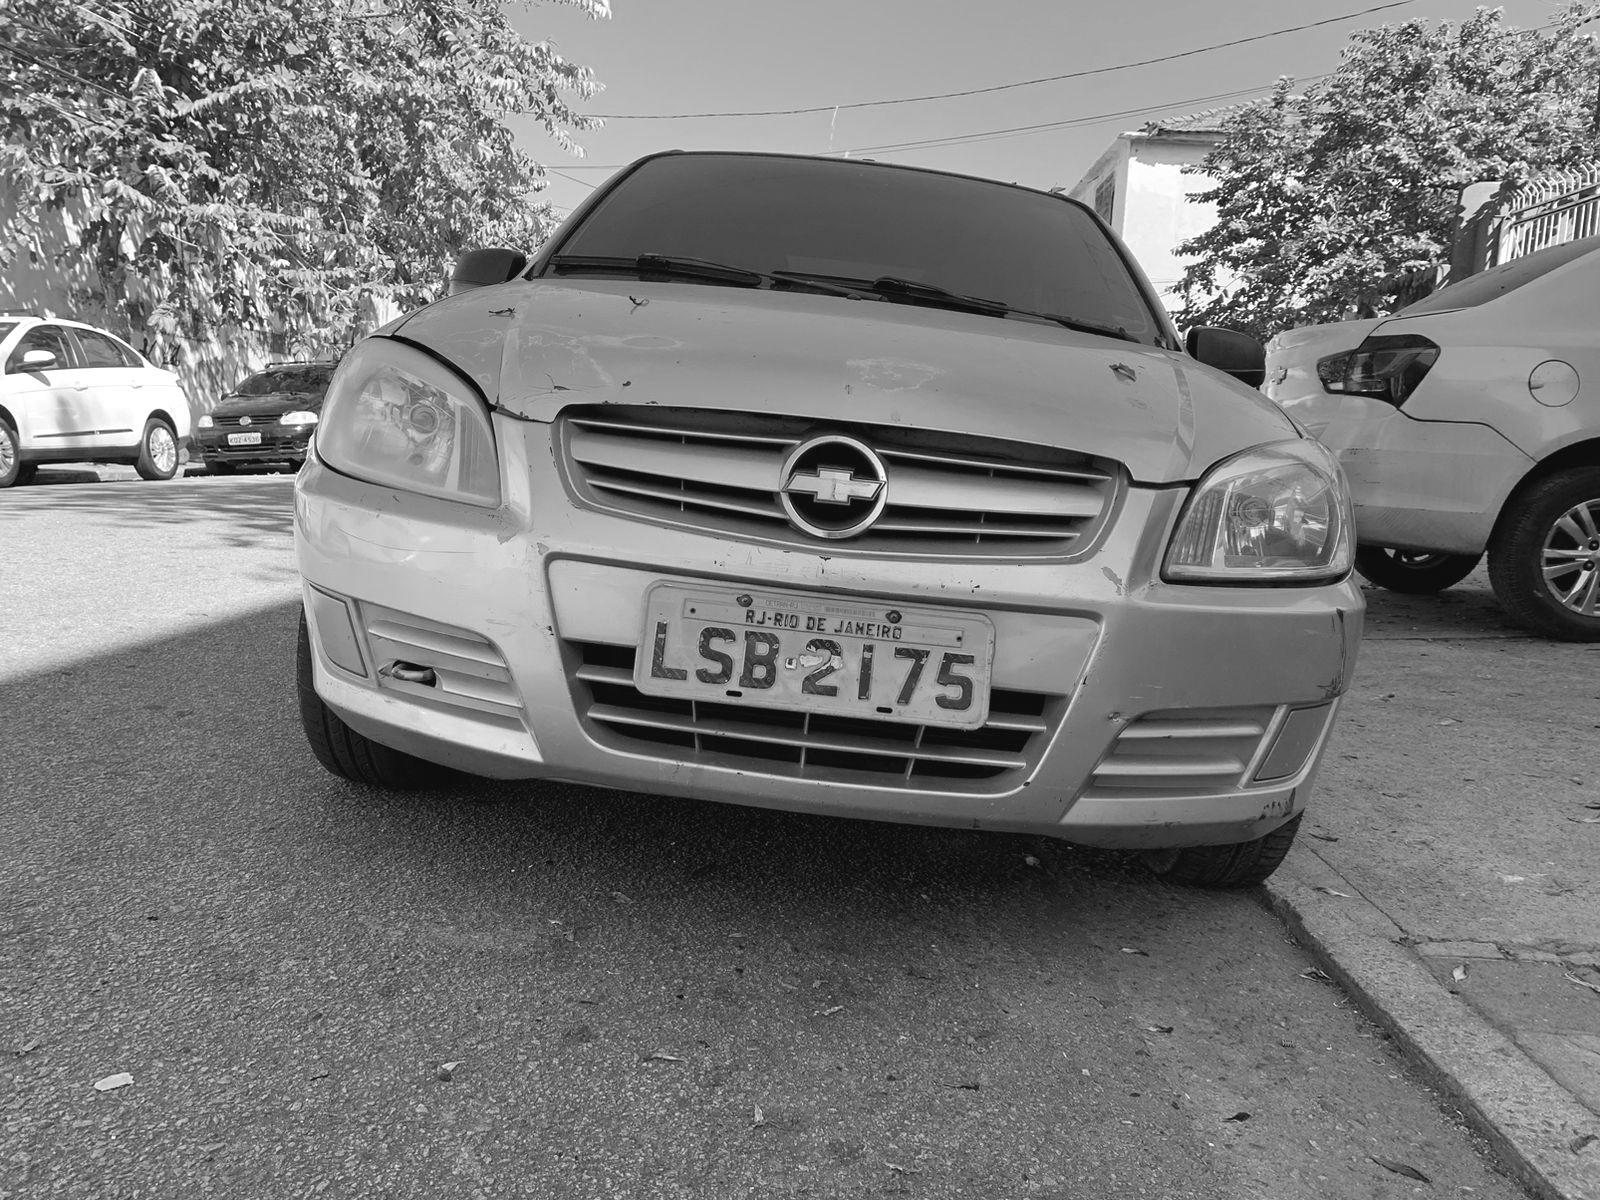placa_antiga: (635, 573, 995, 732)
